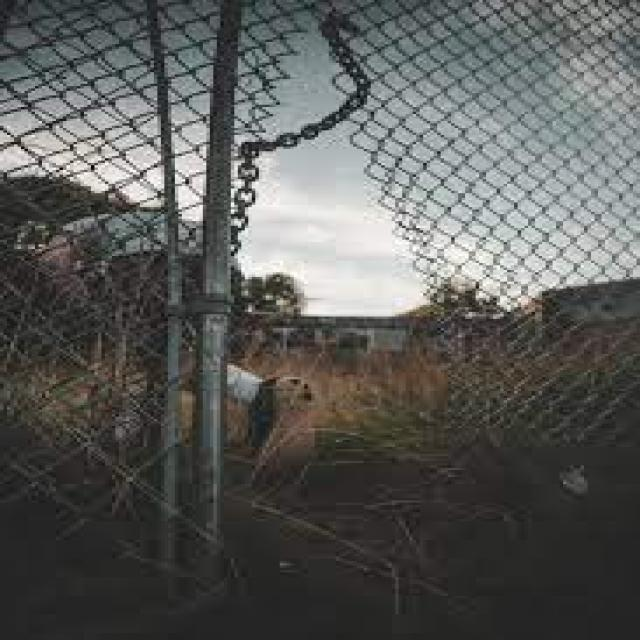fence line: (220, 19, 462, 456)
